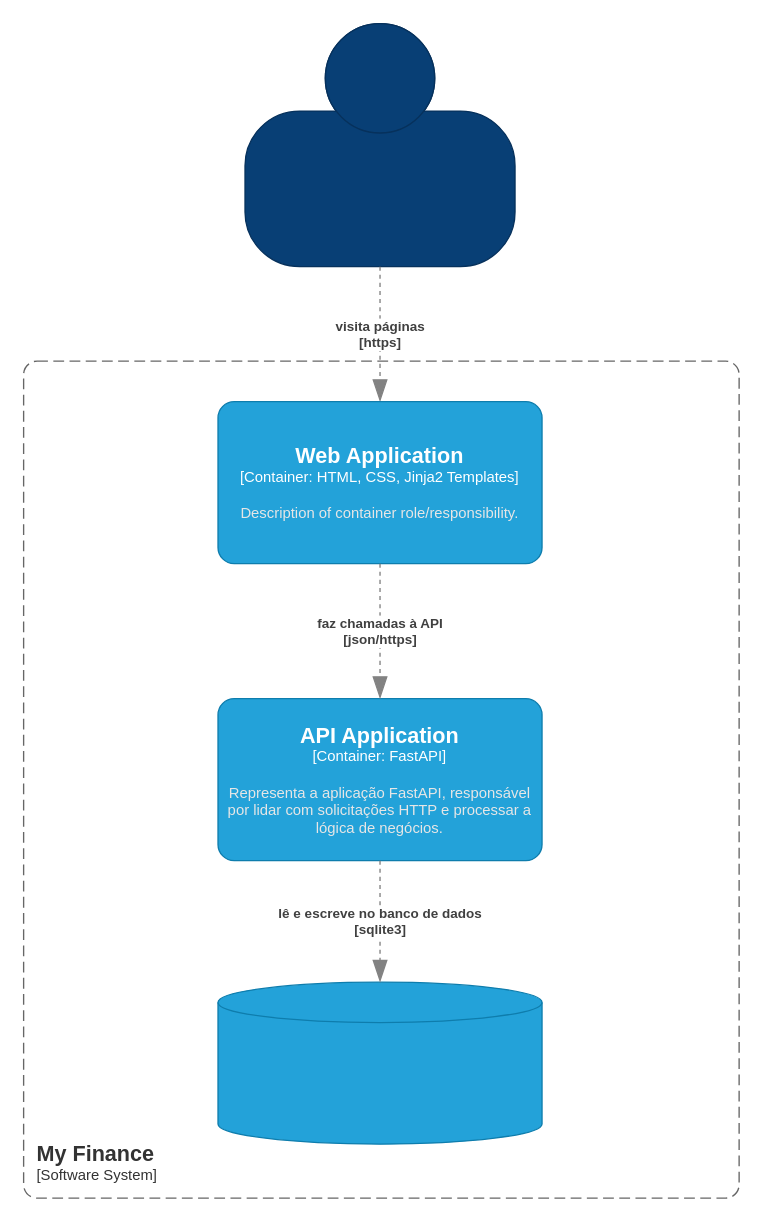
Some shapes in this 763 by 1222 pixel diagram are drawn without their labels. The shapes that lost their labels are listed below. From the top down, each one's box as (x1, y1, x2, y2) in pixels, then its label:
(244, 22, 515, 267): Usuário [Person] Usuário do sistema My Finance.
(217, 981, 542, 1144): Database [Container: SQLite] Armazena dados do usuário e da aplicação.
